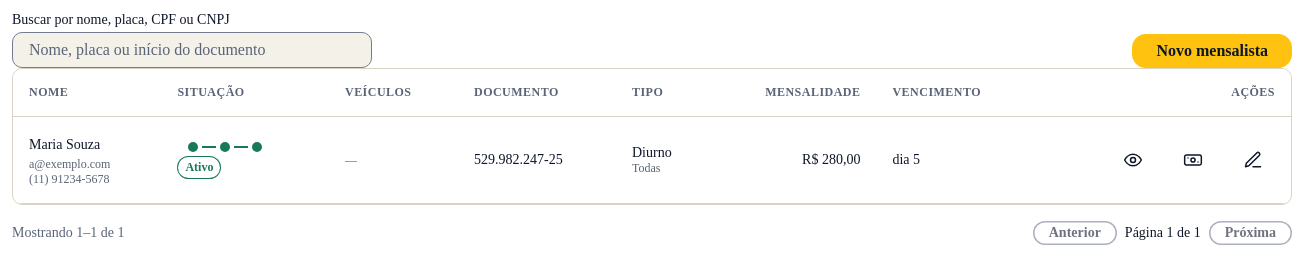
Test: MensalistasList: busca por nome e placa › erro ao carregar o conjunto completo mostra a mensagem e deixa tentar de novo
Expected: the button "Maria Souza" is shown, [29,133,100,157]
In the field labelled "Buscar por nome, placa, CPF ou CNPJ": (192, 50) [12,32,372,68], type "maria"
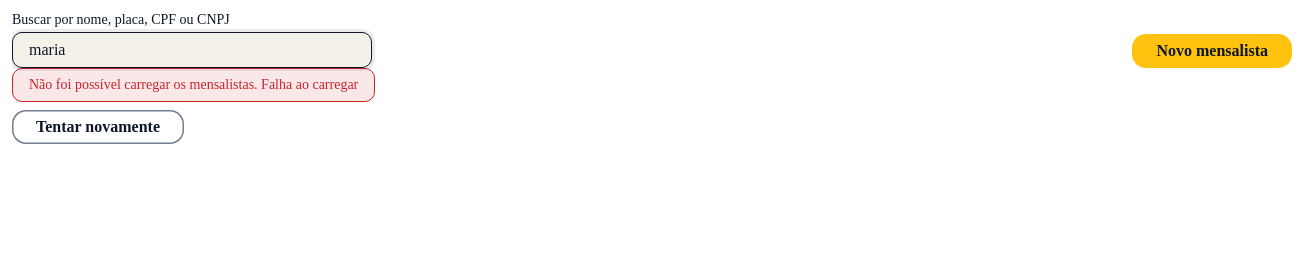
Expected: the message shows "Falha ao carregar", [261,77,358,92]
Expected: the button "Tentar novamente" is shown, [12,110,184,144]
